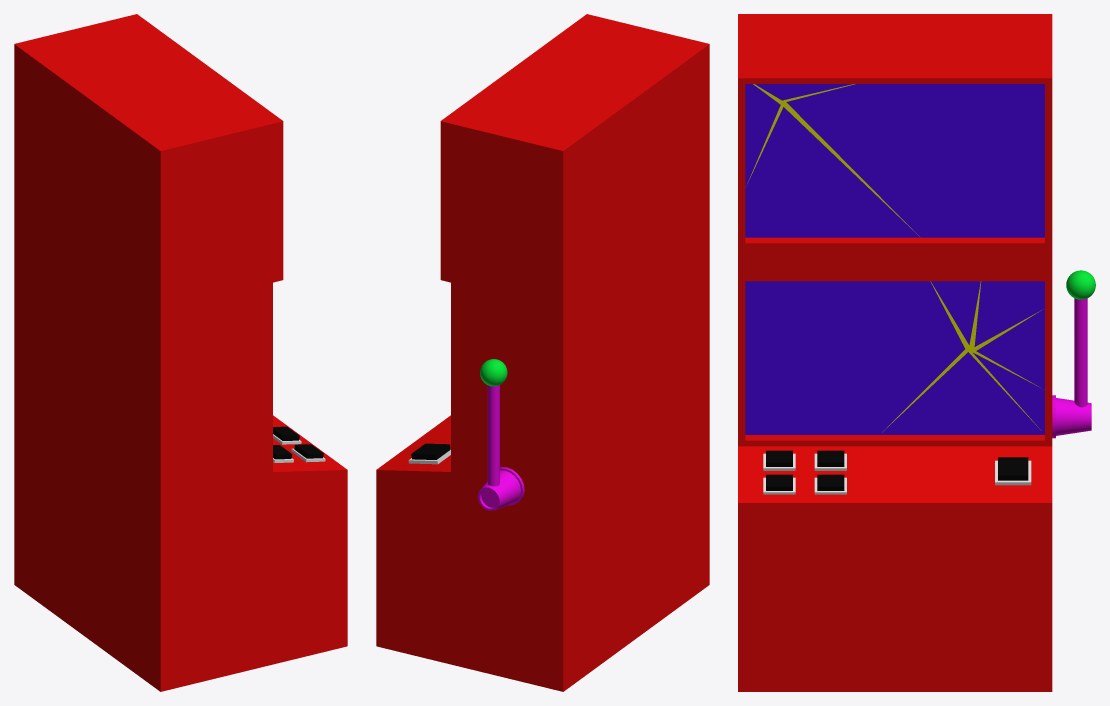
The model's file is Slot Machine 1 Low Poly Damaged Colour ID.fbx.
3 renders of one model, left to right at view 1: azimuth 30°, elevation 25°; view 2: azimuth 150°, elevation 25°; view 3: azimuth 270°, elevation 25°, orthographic. The views are drawn at different scales.
Parts seen in each view (by area): view 1: Slot_1_low; view 2: Slot_1_low; view 3: Slot_1_low.
Part boxes in pixels (x1=…): Slot_1_low: x1=14, y1=14, x2=347, y2=691; Slot_1_low: x1=376, y1=14, x2=709, y2=691; Slot_1_low: x1=738, y1=14, x2=1095, y2=691.
Size of the model in its own units: 2.44 by 6.72 by 3.76.
